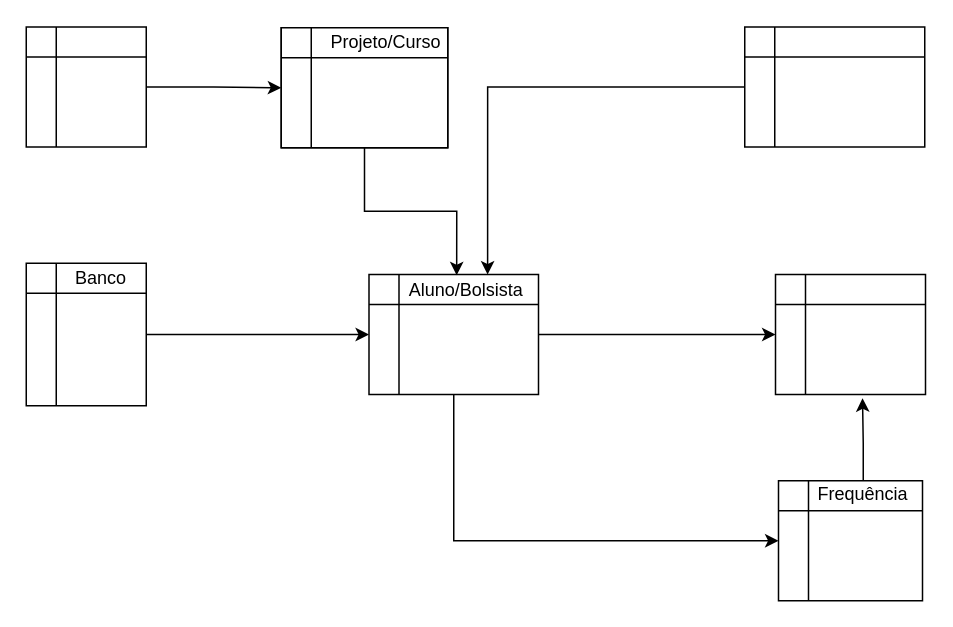
The diagram is 953 pixels wide and 627 high, and some of its shapes have lost their labels. Each missing label, with the centre of its shape:
Pagamento: the point at 850,333
Professor: the point at 85,86
Tipo de Bolsa: the point at 834,86
